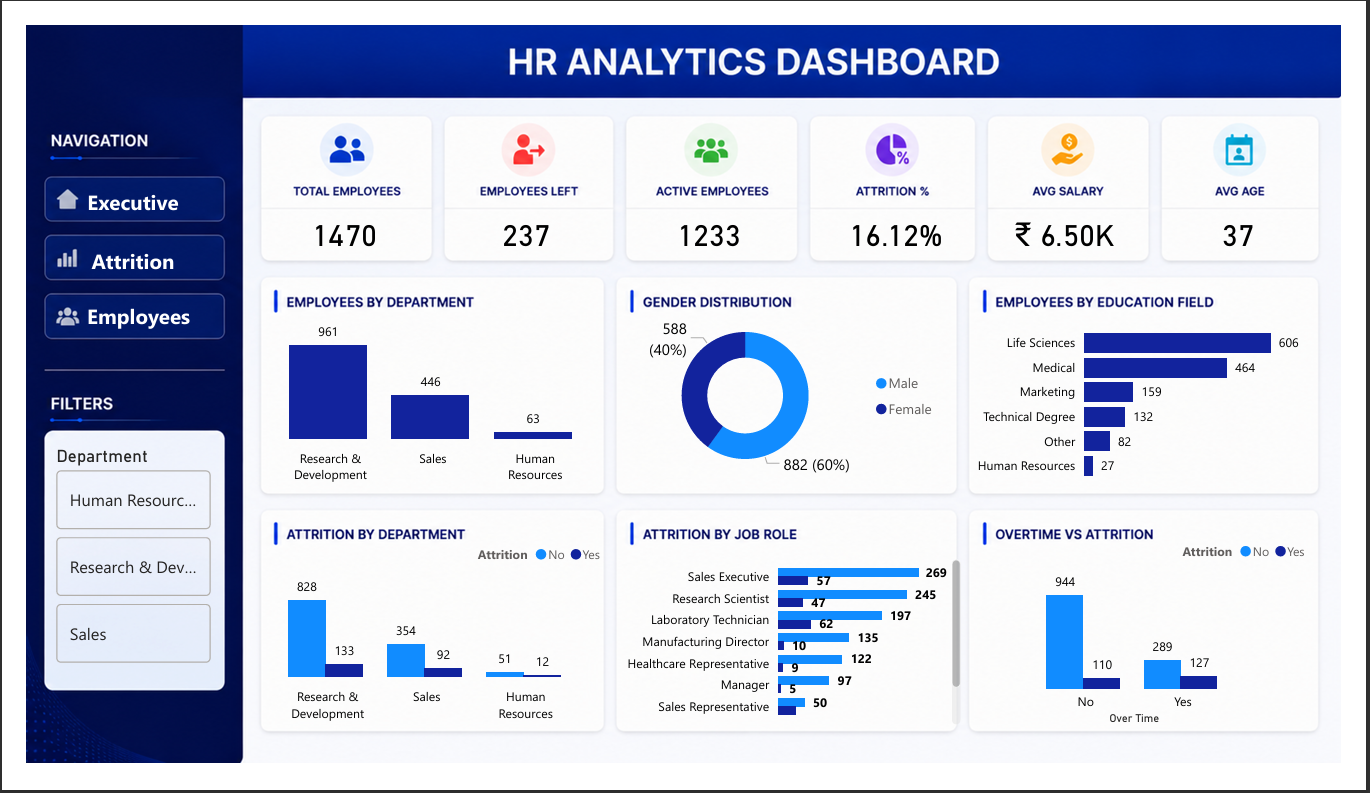

The dashboard page shown, as its layout file describes it:
{"tool":"powerbi","page":{"name":"Executive Summary","canvas":[1280,720],"ordinal":0},"visuals":[{"type":"card","fields":{"Values":["Table.Total Employees"]},"box":[241.7,177.5,135.2,50.7],"z":0},{"type":"card","fields":{"Values":["Table.Employees Left"]},"box":[419.2,177.5,135.2,50.7],"z":1000},{"type":"card","fields":{"Values":["Table.Active Employees"]},"box":[596.6,177.5,135.2,50.7],"z":2000},{"type":"card","fields":{"Values":["Table.Attrition Rate %"]},"box":[779.2,177.5,135.2,50.7],"z":3000},{"type":"card","fields":{"Values":["Table.Average Monthly Salary"]},"box":[943.1,177.5,135.2,50.7],"z":4000},{"type":"card","fields":{"Values":["Table.Average Age"]},"box":[1112.1,177.5,135.2,50.7],"z":5000},{"type":"clusteredColumnChart","fields":{"Category":["Employees.Department"],"Y":["Table.Total Employees"]},"box":[196.1,277.2,383.7,175.8],"z":6000},{"type":"donutChart","fields":{"Category":["Employees.Gender"],"Y":["Table.Total Employees"]},"box":[567.9,272.1,327.9,175.8],"z":7000},{"type":"clusteredBarChart","fields":{"Category":["Employees.Education Field"],"Y":["Table.Total Employees"]},"box":[914.4,277.2,333,175.8],"z":8000},{"type":"clusteredColumnChart","fields":{"Category":["Employees.Department"],"Series":["Employees.Attrition"],"Y":["Table.Total Employees"]},"box":[196.1,495.2,371.8,189.3],"z":9000},{"type":"clusteredBarChart","fields":{"Category":["Employees.Job Role"],"Series":["Employees.Attrition"],"Y":["Table.Total Employees"]},"box":[567.9,507,346.5,177.5],"z":10000},{"type":"clusteredColumnChart","fields":{"Category":["Employees.Over Time"],"Series":["Employees.Attrition"],"Y":["Table.Total Employees"]},"box":[902.5,491.8,351.6,192.7],"z":11000},{"type":"advancedSlicerVisual","fields":{"Values":["Employees.Department"]},"box":[23.7,409,160.6,218],"z":12000},{"type":"actionButton","title":"Executive","box":[33.3,147.2,140.6,45.6],"z":13000},{"type":"actionButton","title":"Executive","box":[33.1,205.6,140.6,45],"z":14000},{"type":"actionButton","title":"Executive","box":[38.8,258.8,140.6,45],"z":15000}]}

Visuals, with their boxes in screenshot pixels (x1, y1, x2, y2), scaled from the page's 1280x720 canvas onto the 1370x793 screenshot:
card - Table.Total Employees: (259, 195, 403, 251)
card - Table.Employees Left: (449, 195, 593, 251)
card - Table.Active Employees: (639, 195, 783, 251)
card - Table.Attrition Rate %: (834, 195, 979, 251)
card - Table.Average Monthly Salary: (1009, 195, 1154, 251)
card - Table.Average Age: (1190, 195, 1335, 251)
clusteredColumnChart - Employees.Department x Table.Total Employees: (210, 305, 621, 499)
donutChart - Employees.Gender x Table.Total Employees: (608, 300, 959, 493)
clusteredBarChart - Employees.Education Field x Table.Total Employees: (979, 305, 1335, 499)
clusteredColumnChart - Employees.Department x Employees.Attrition: (210, 545, 608, 754)
clusteredBarChart - Employees.Job Role x Employees.Attrition: (608, 558, 979, 754)
clusteredColumnChart - Employees.Over Time x Employees.Attrition: (966, 542, 1342, 754)
advancedSlicerVisual - Employees.Department: (25, 450, 197, 691)
"Executive" actionButton: (36, 162, 186, 212)
"Executive" actionButton: (35, 226, 186, 276)
"Executive" actionButton: (42, 285, 192, 335)
